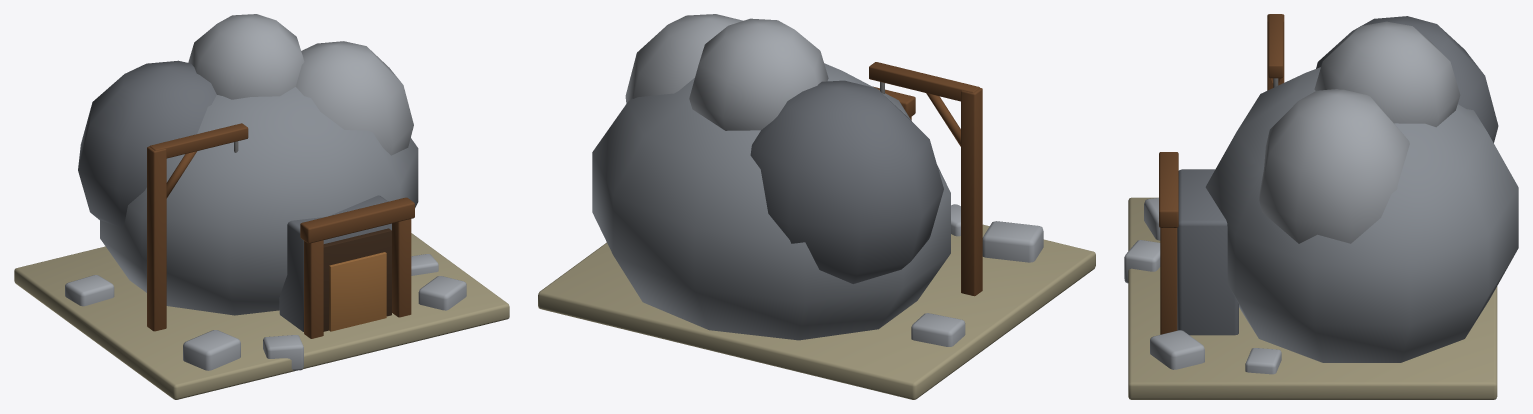
The model's file is k_quarry.glb.
3 views of the same model, side by side, from view 1: azimuth 30°, elevation 25°; view 2: azimuth 150°, elevation 25°; view 3: azimuth 270°, elevation 25° (orthographic). The views are drawn at different scales.
Visible parts, largest first — view 1: SK_k_quarry; view 2: SK_k_quarry; view 3: SK_k_quarry.
Boxes of the visible parts, <box> form: SK_k_quarry: <box>14,14,509,399</box>; SK_k_quarry: <box>538,14,1095,399</box>; SK_k_quarry: <box>1124,14,1518,399</box>.
Bounding box in the file's own units: 3.6 × 2.93 × 3.2.
